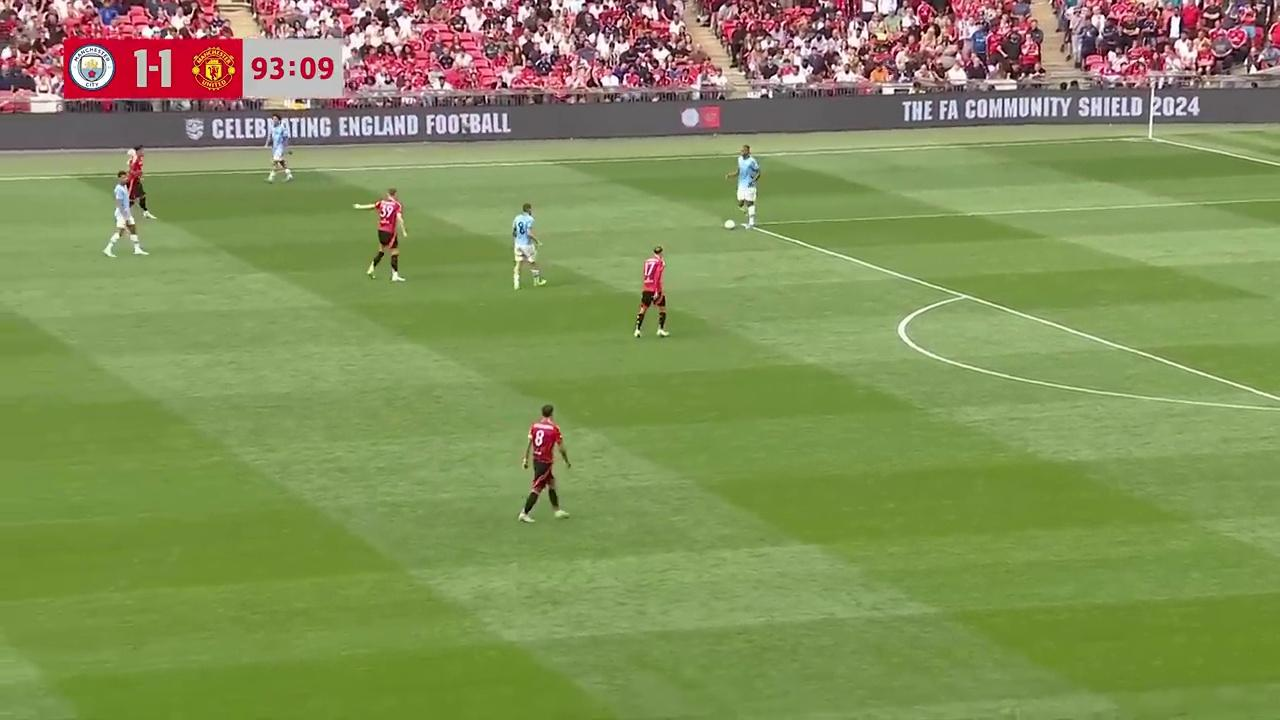ball: (723, 216, 736, 231)
player: (517, 404, 571, 523), (359, 187, 407, 282), (103, 165, 148, 259), (633, 245, 669, 340), (511, 202, 546, 291), (727, 145, 760, 230), (123, 144, 153, 224), (266, 119, 293, 183)
